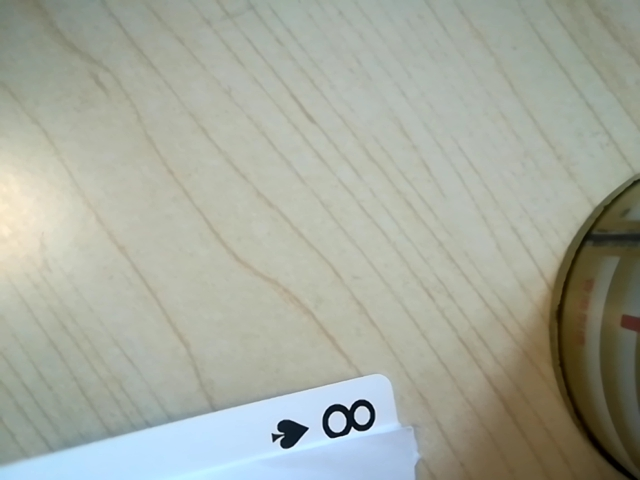ht 8: (263, 390, 393, 456)
